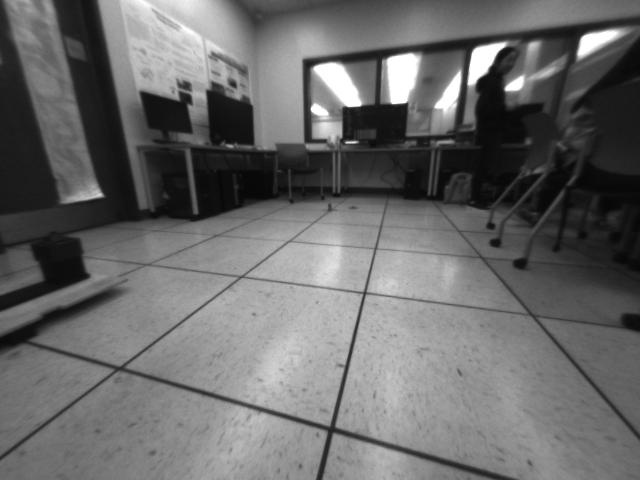X: (320, 202, 339, 214)
